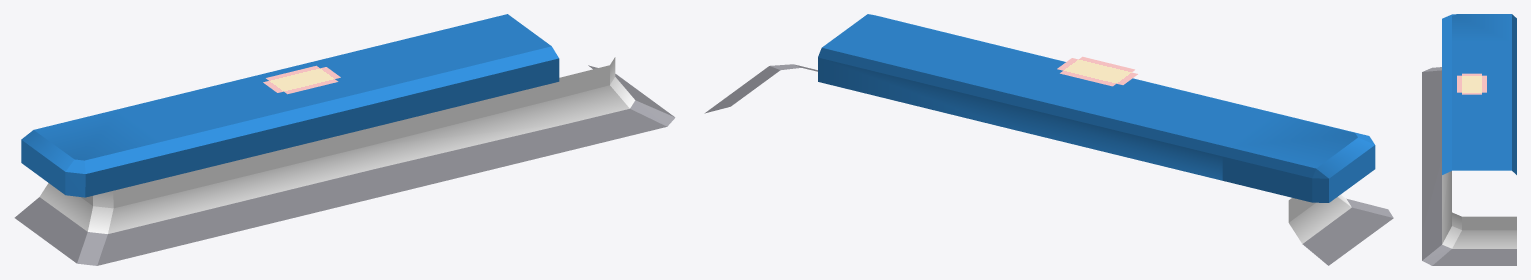
Rendered from hgss-centre-b1-station-2.glb.
3 renders of one model, left to right at view 1: azimuth 30°, elevation 25°; view 2: azimuth 150°, elevation 25°; view 3: azimuth 270°, elevation 25°, orthographic. The views are drawn at different scales.
Size of the model in its own units: 5.87 by 0.9375 by 1.19.
4 materials, 4 textured.
